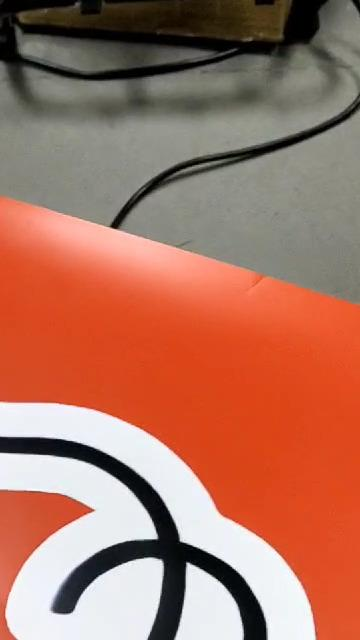B_R1: (0, 402, 314, 640)
